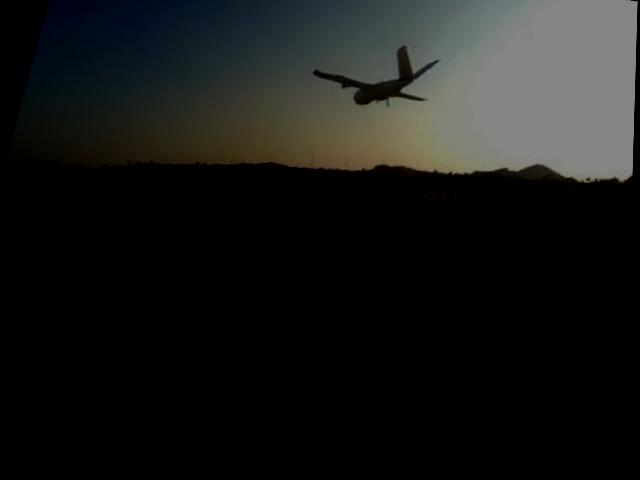uav: (294, 19, 450, 155)
